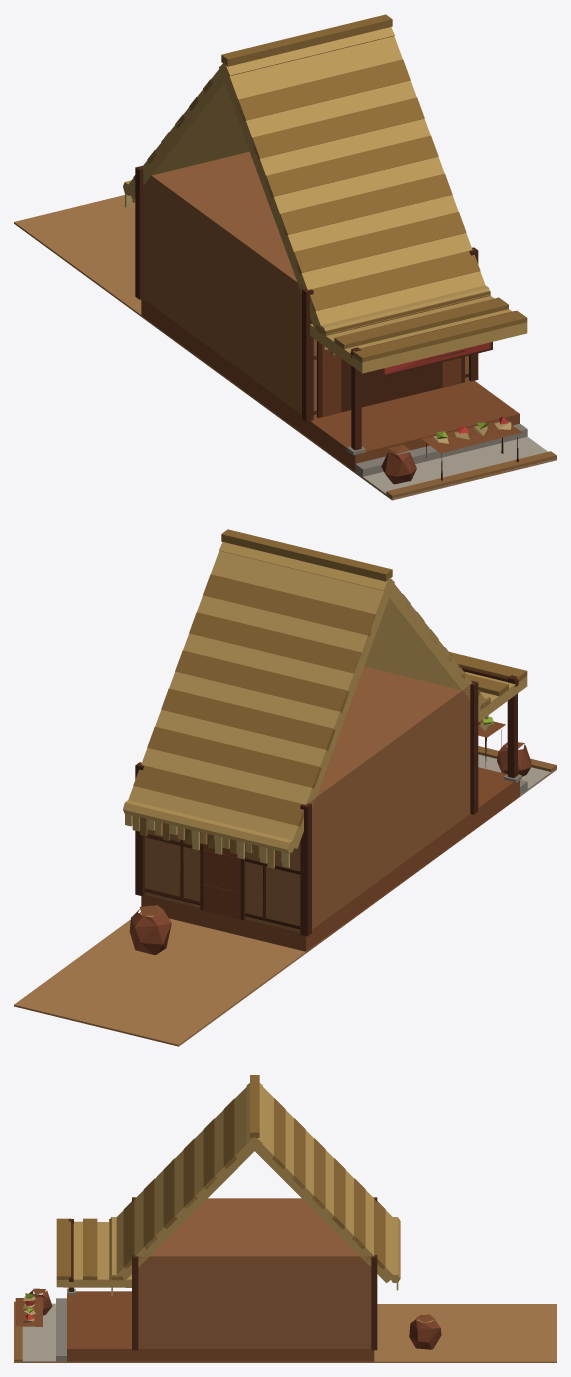
Rendered from bay1_mid.glb.
3 renders of one model, top to bottom at view 1: azimuth 30°, elevation 25°; view 2: azimuth 150°, elevation 25°; view 3: azimuth 270°, elevation 25°, orthographic. The views are drawn at different scales.
Parts seen in each view (by area): view 1: body; view 2: body; view 3: body.
Part boxes in pixels (bbox=[...]): body: bbox=[14, 14, 556, 500]; body: bbox=[14, 529, 556, 1046]; body: bbox=[14, 1075, 556, 1362].
Bounding box in the file's own units: 4.18 × 7.44 × 15.9.
